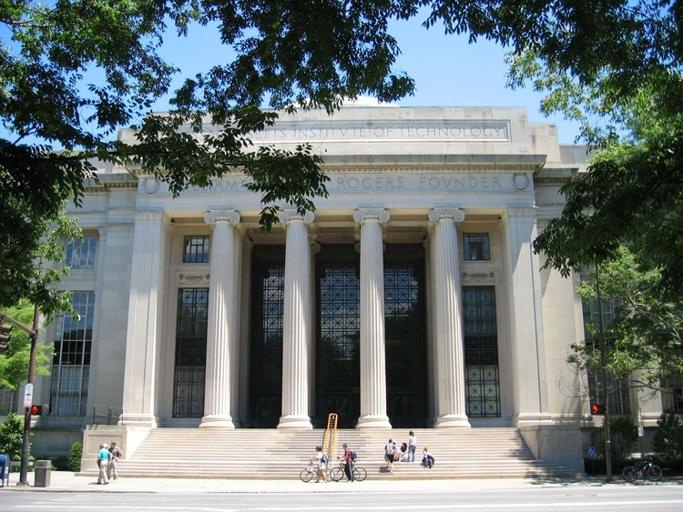non-vehicle: (620, 453, 663, 483), (328, 456, 367, 480), (298, 459, 335, 482)
